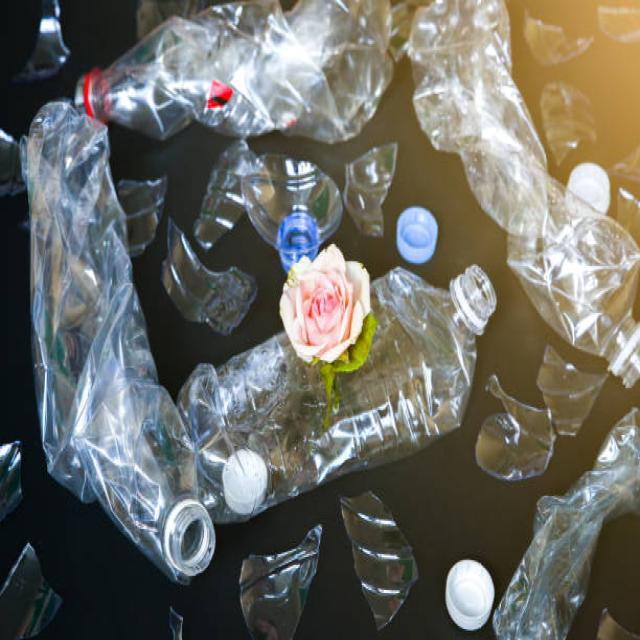plastic: (150, 300, 498, 472), (76, 24, 403, 147)
